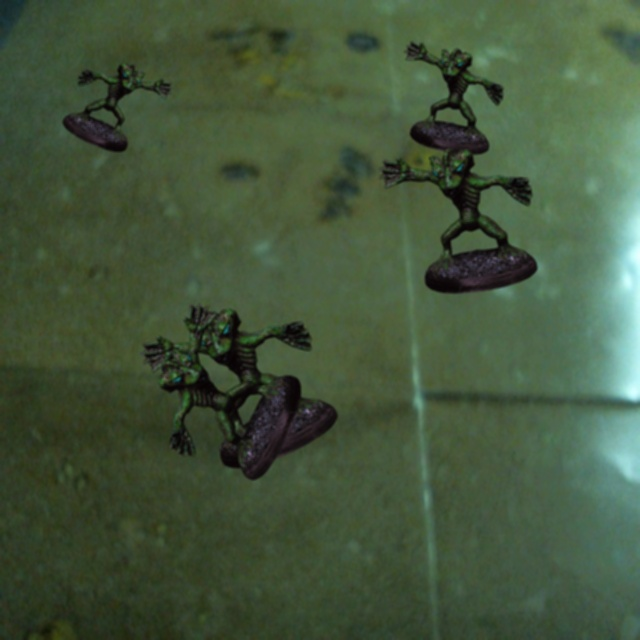pieza_juego: (141, 308, 337, 467), (158, 303, 300, 480), (378, 148, 537, 293), (404, 41, 503, 154), (62, 63, 172, 151)
